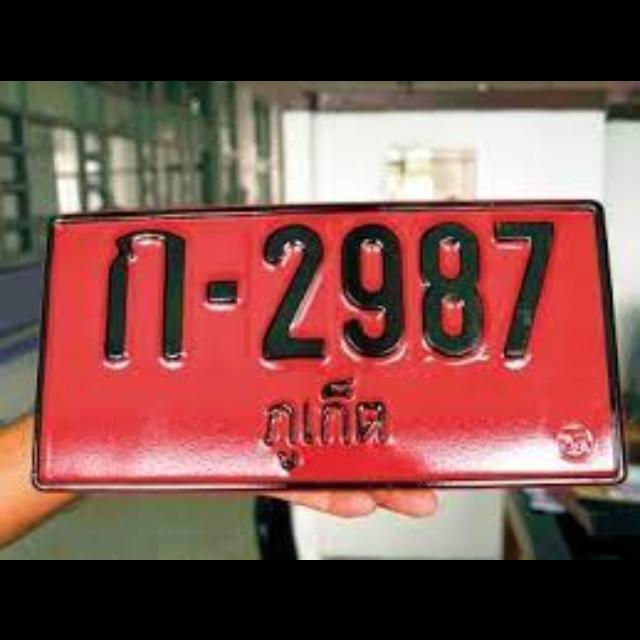licenseplate: (28, 197, 626, 488)
